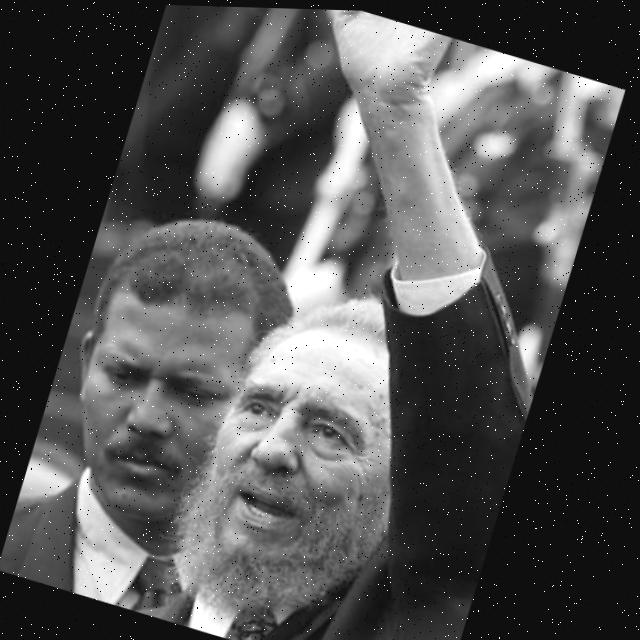face: (180, 262, 462, 625), (42, 232, 293, 533)
